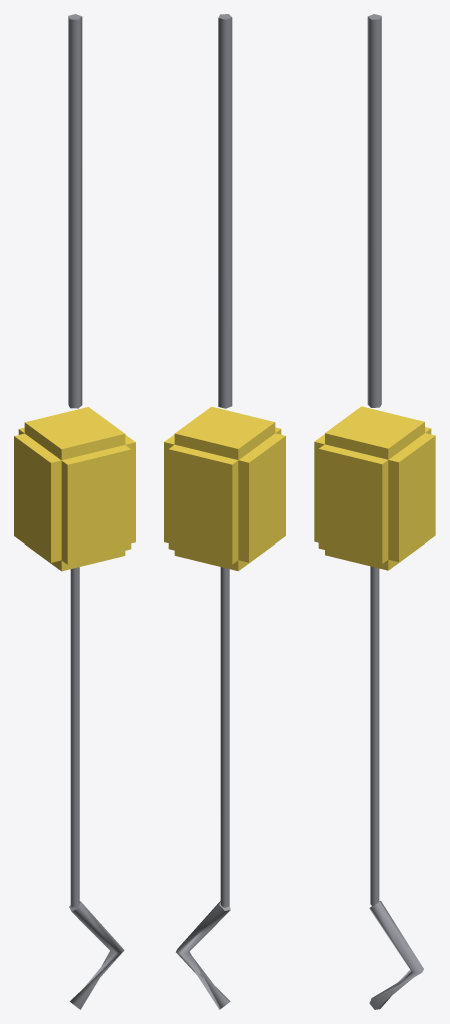
The model's file is chain_hoist.glb.
The picture shows the model from 3 angles, left to right: view 1: azimuth 30°, elevation 25°; view 2: azimuth 150°, elevation 25°; view 3: azimuth 330°, elevation 25°; orthographic projection.
Visible parts, largest first — view 1: chain_hoist; view 2: chain_hoist; view 3: chain_hoist.
Boxes of the visible parts, x1=… form: chain_hoist: x1=14, y1=14, x2=135, y2=1009; chain_hoist: x1=164, y1=14, x2=285, y2=1009; chain_hoist: x1=314, y1=14, x2=435, y2=1009.
Size of the model in its own units: 0.1714 by 1.79 by 0.16.
